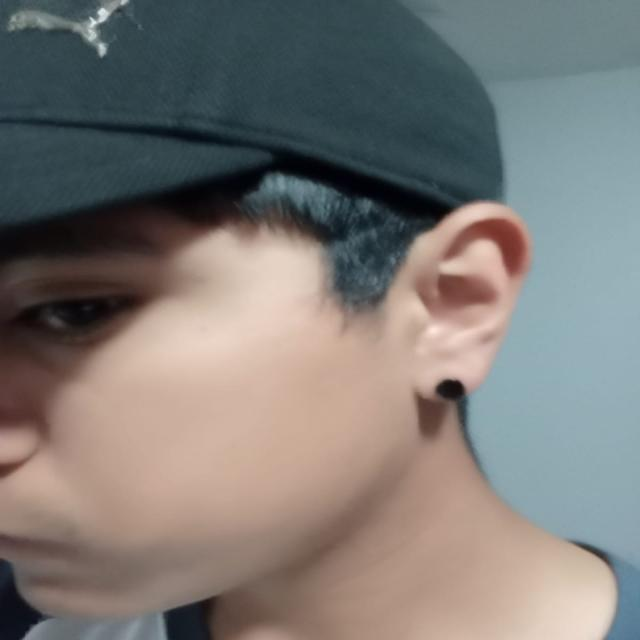ear: (388, 201, 532, 402)
